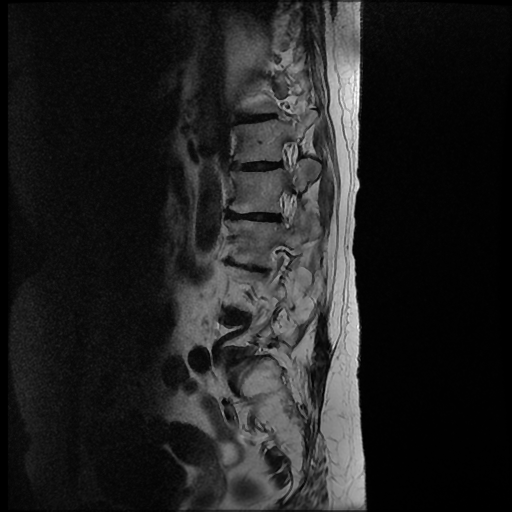LFS0: (271, 135, 306, 177)
